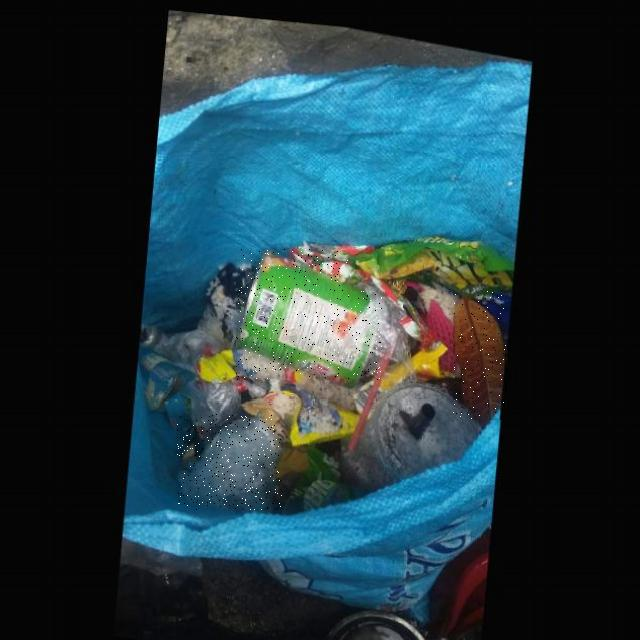biowaste: (454, 288, 506, 419)
metal: (237, 249, 383, 380)
plastic: (177, 413, 282, 510)
wrapper: (350, 228, 515, 289)
